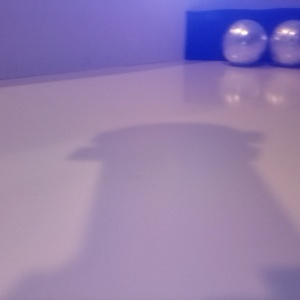alive_ball: (1, 24, 70, 118)
dead_ball: (168, 10, 224, 71)
